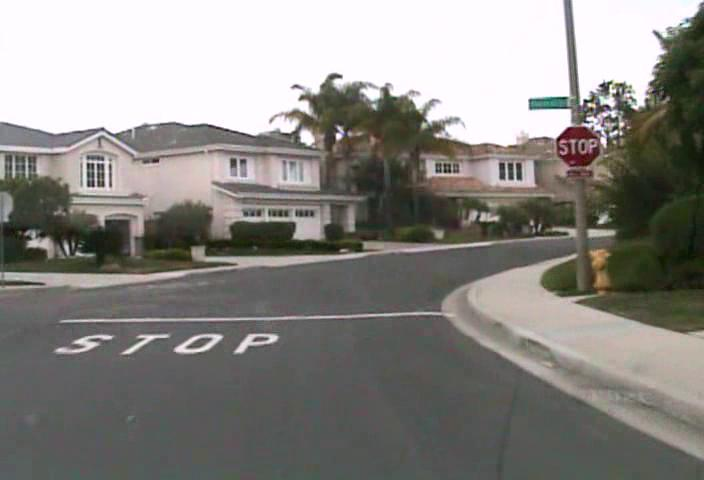stop: (555, 125, 601, 169)
